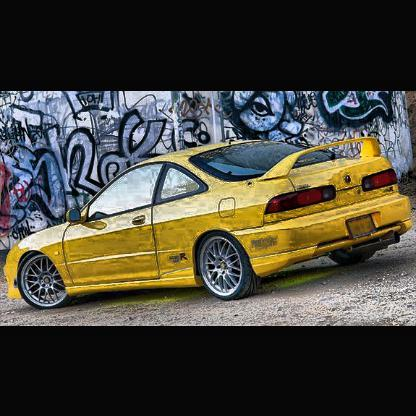Acura Integra Type R 2001: (5, 137, 413, 310)
